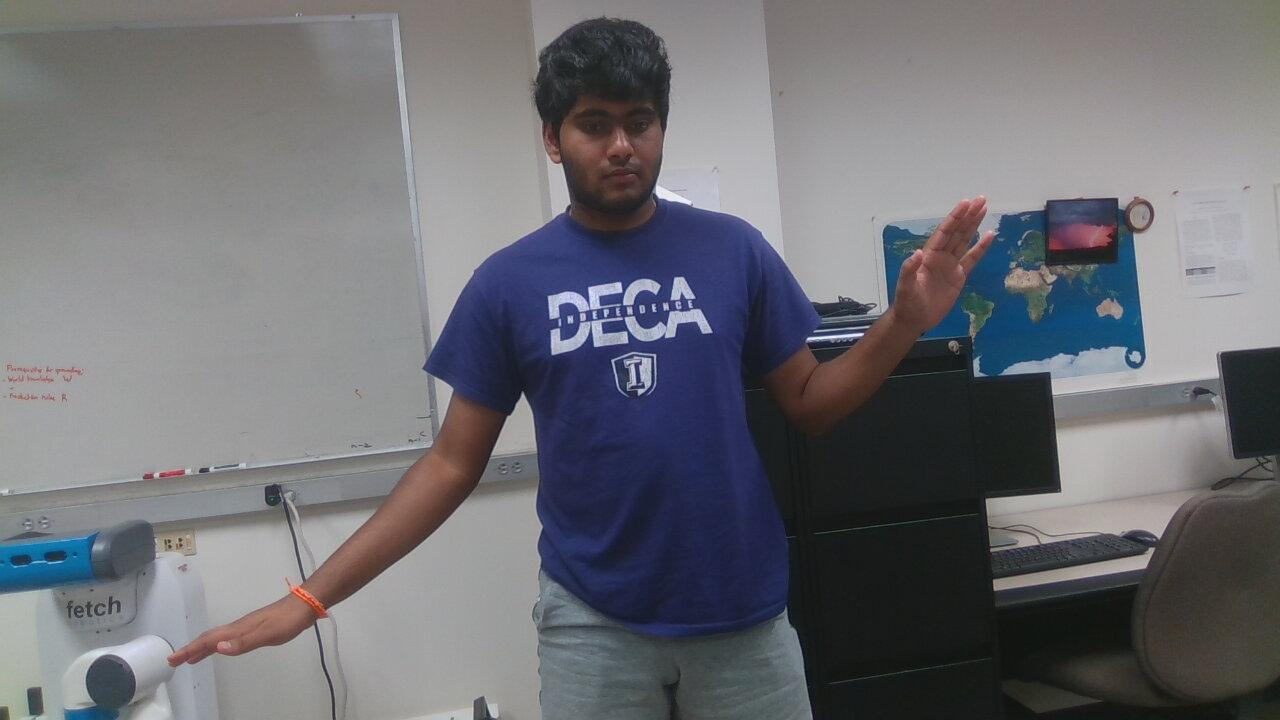hands: (886, 197, 1014, 336), (171, 582, 326, 676)
